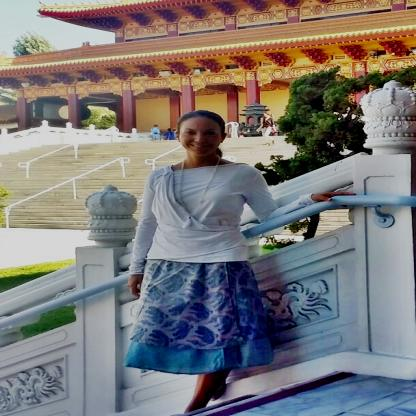dress: (120, 252, 273, 375), (130, 157, 272, 268)
